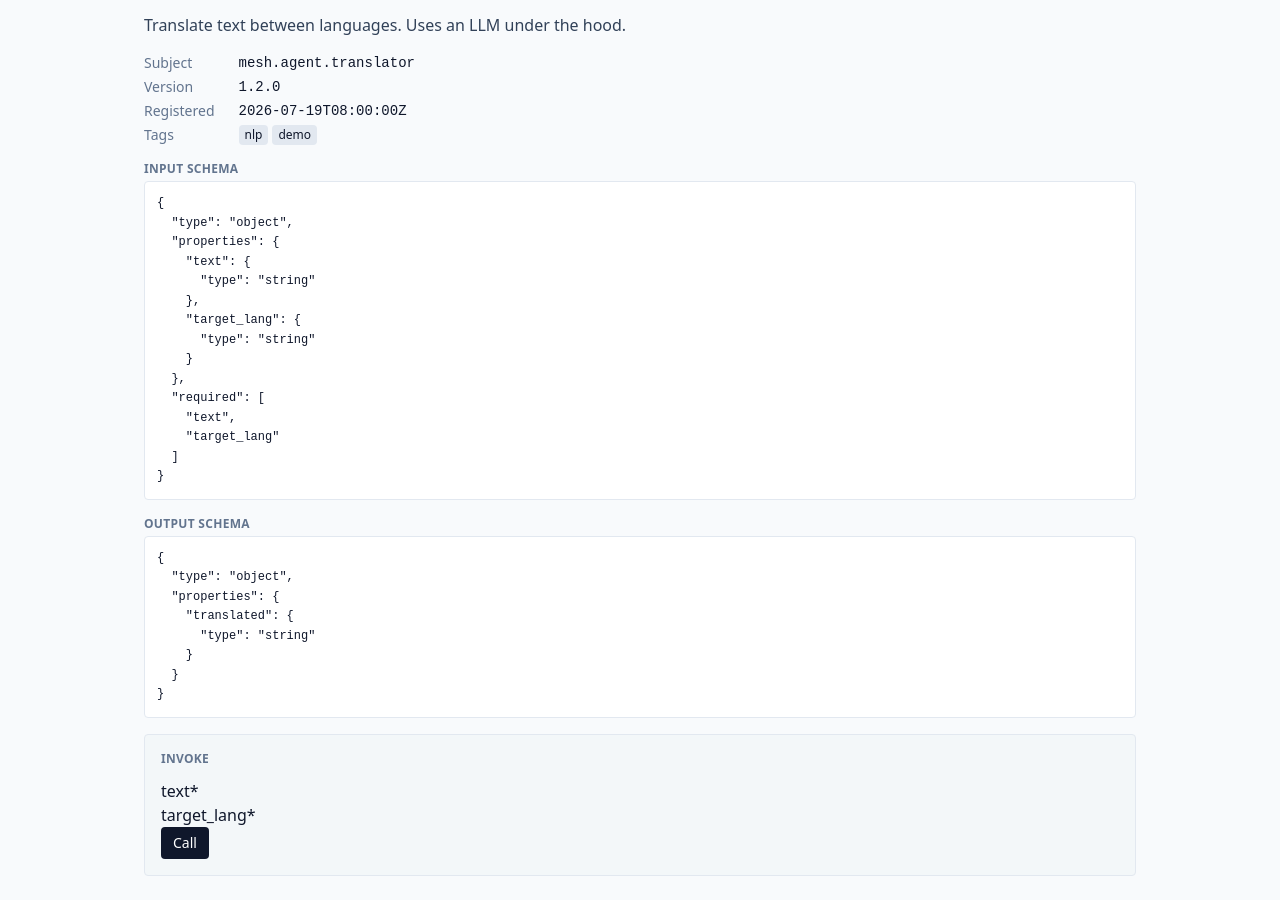
Test: invocation sandbox › renders the error envelope from a failed call, including not_available
(page scrolled)
Type "Hello" into the field labelled "text*". click: (314, 790)
box: [199,778,430,802]
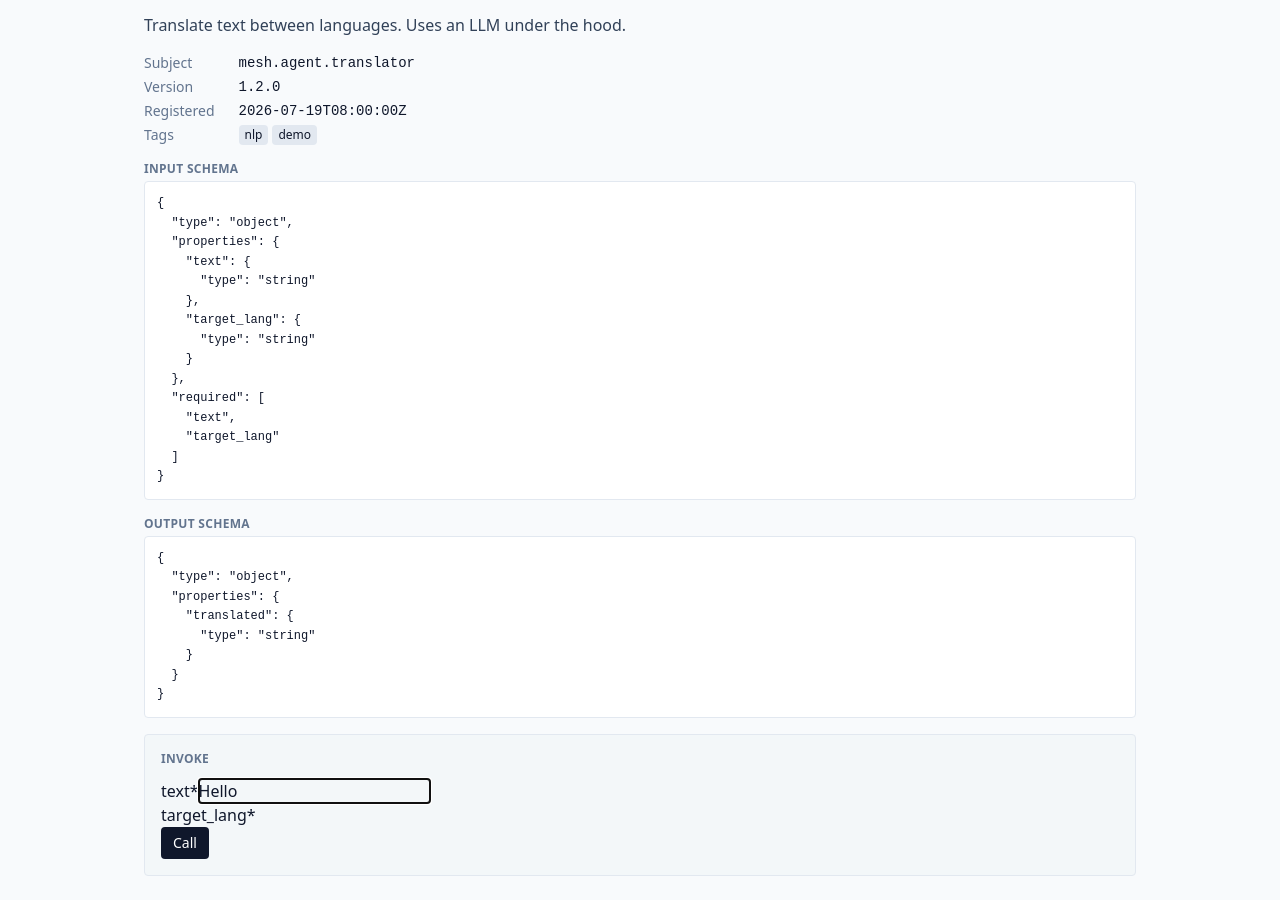
Type "fr" into the field labelled "target_lang*". click: (371, 814)
box: [256,802,487,826]
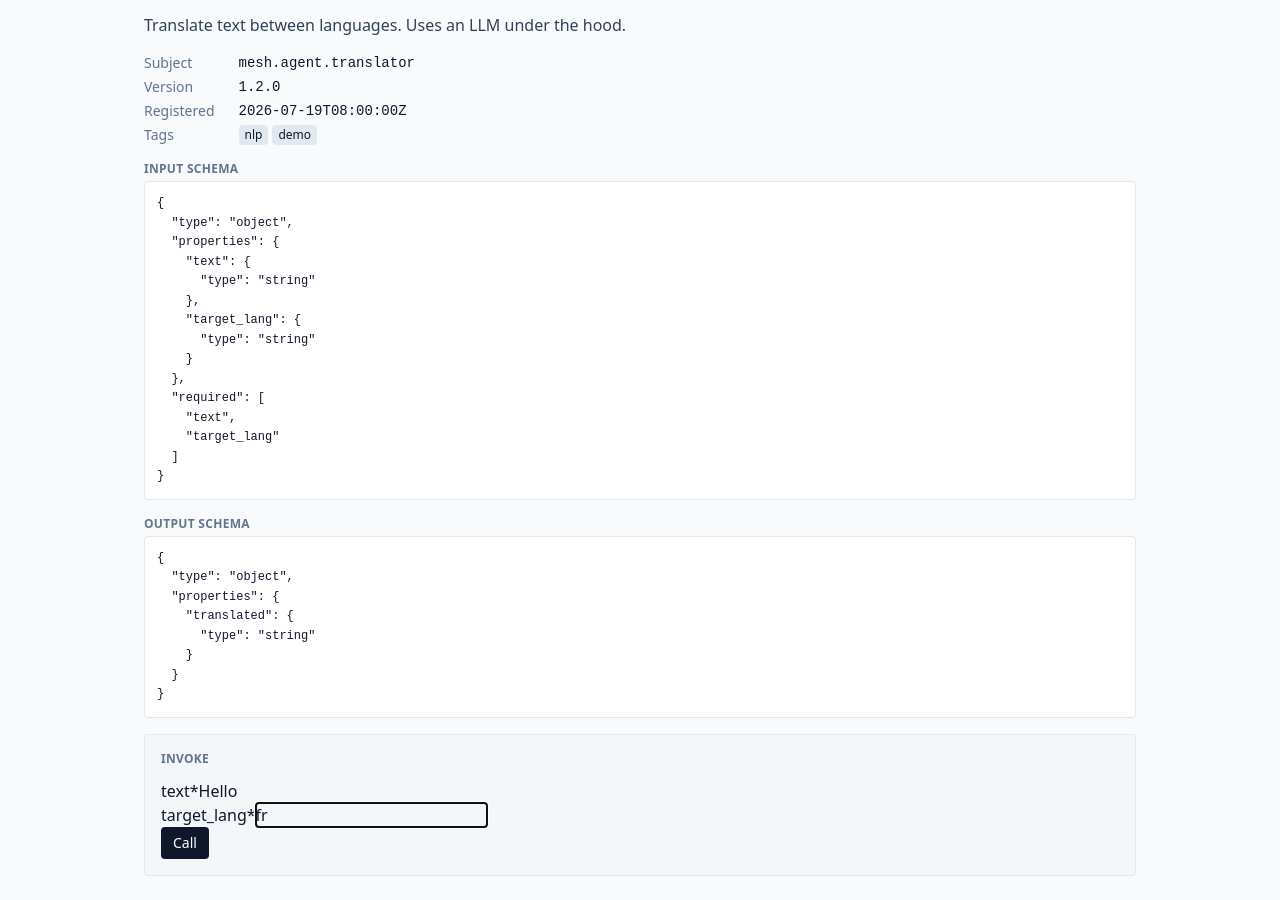
Click the button "Call". click: (185, 842)
box: [161,826,209,858]
(page scrolled)
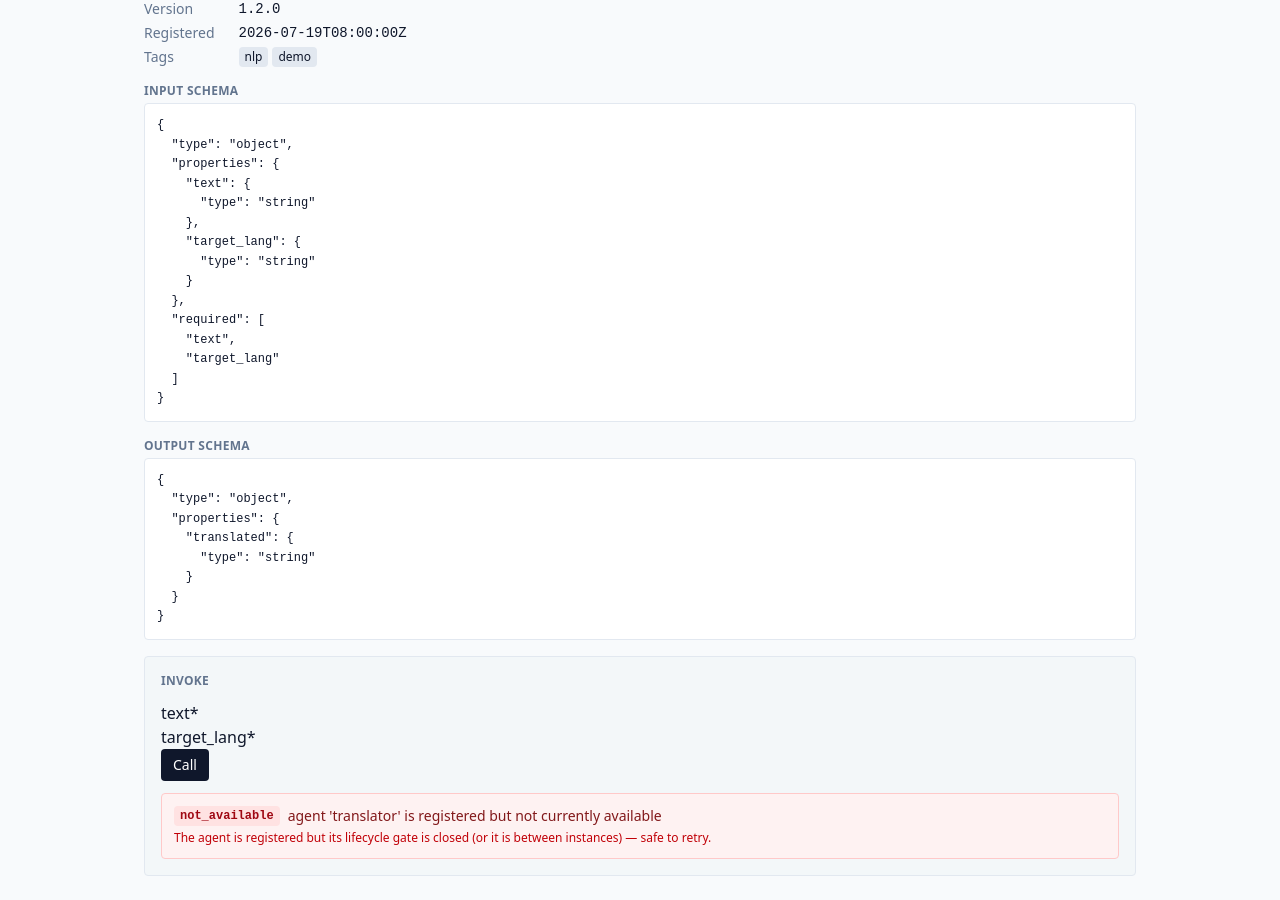
Result: the text "not_available" is shown at [174,806,280,826]
Result: the text "agent 'translator' is registered but not currently available" is shown at [288,806,662,826]
Result: the text "retry" is shown at [174,828,711,846]
